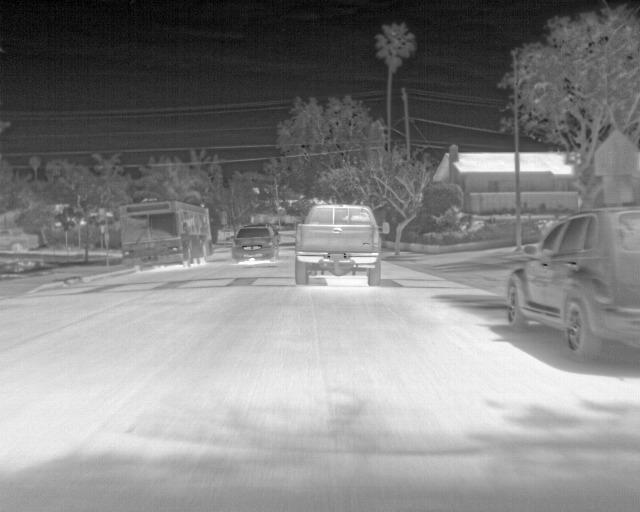car: (505, 205, 639, 359), (294, 204, 390, 286), (120, 201, 213, 272), (231, 224, 278, 264), (0, 227, 43, 254)
light: (221, 211, 227, 225)
sign: (594, 129, 638, 175), (604, 175, 635, 203), (99, 209, 105, 220), (101, 225, 106, 233)
